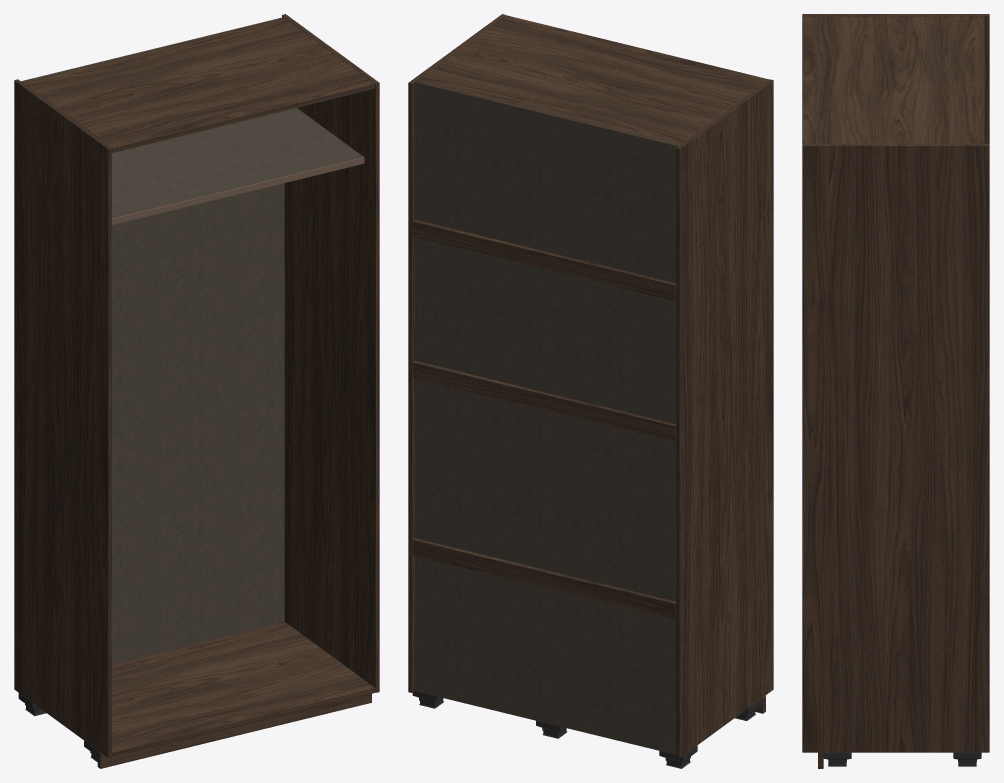
3 views of the same model, side by side, from view 1: azimuth 30°, elevation 25°; view 2: azimuth 150°, elevation 25°; view 3: azimuth 270°, elevation 25° (orthographic).
Visible parts, largest first — view 1: HK1001018; view 2: HK1001018; view 3: HK1001018.
Boxes of the visible parts, x1,y1,x2,y2 form: HK1001018: (14,14,379,768); HK1001018: (408,14,773,768); HK1001018: (802,14,989,768).
Bounding box in the file's own units: 1 × 2.2 × 0.6.
7 materials, 6 textured.
